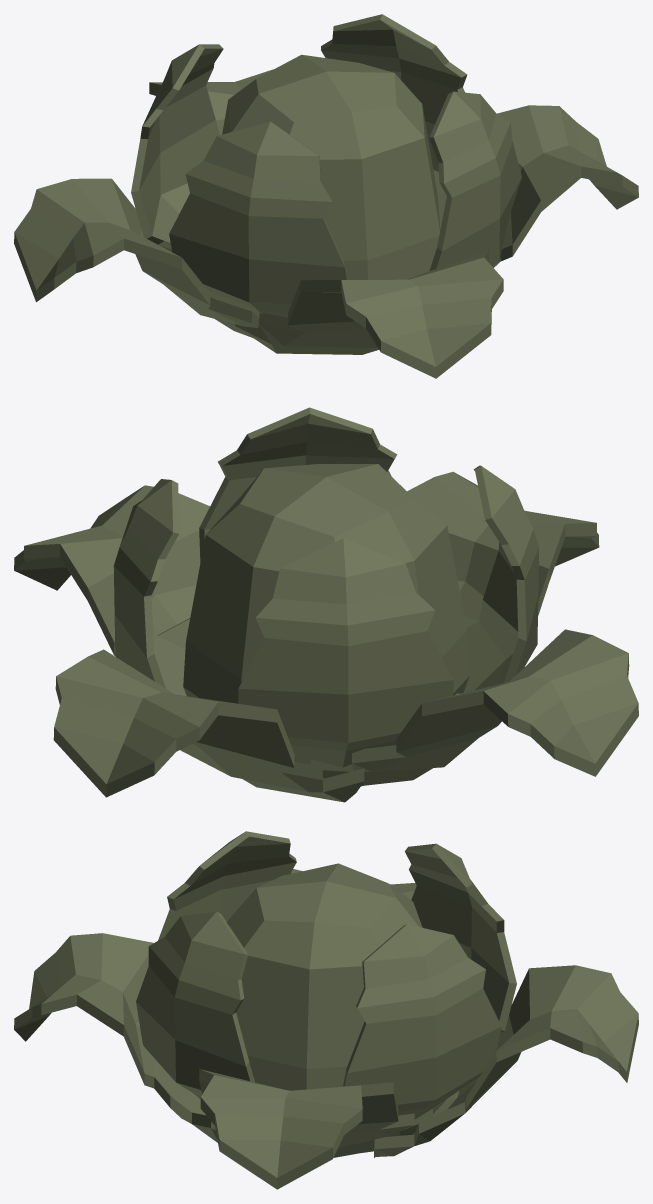
File: Lettuce.fbx
The picture shows the model from 3 angles, top to bottom: view 1: azimuth 30°, elevation 25°; view 2: azimuth 150°, elevation 25°; view 3: azimuth 270°, elevation 25°; orthographic projection. The views are drawn at different scales.
Parts seen in each view (by area): view 1: Lettuce; view 2: Lettuce; view 3: Lettuce.
Boxes of the visible parts, x1,y1,x2,y2 form: Lettuce: (14,14,638,378); Lettuce: (14,407,638,802); Lettuce: (14,831,638,1189).
Bounding box in the file's own units: 17.42 × 7.77 × 17.42.
